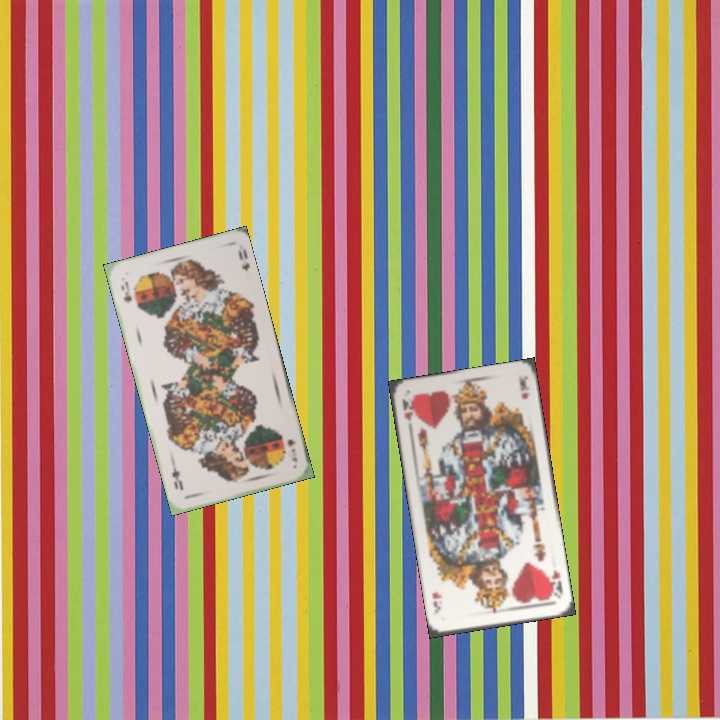HK: (545, 565, 565, 601), (398, 395, 416, 434)
SO: (283, 435, 300, 465), (117, 278, 134, 305)
